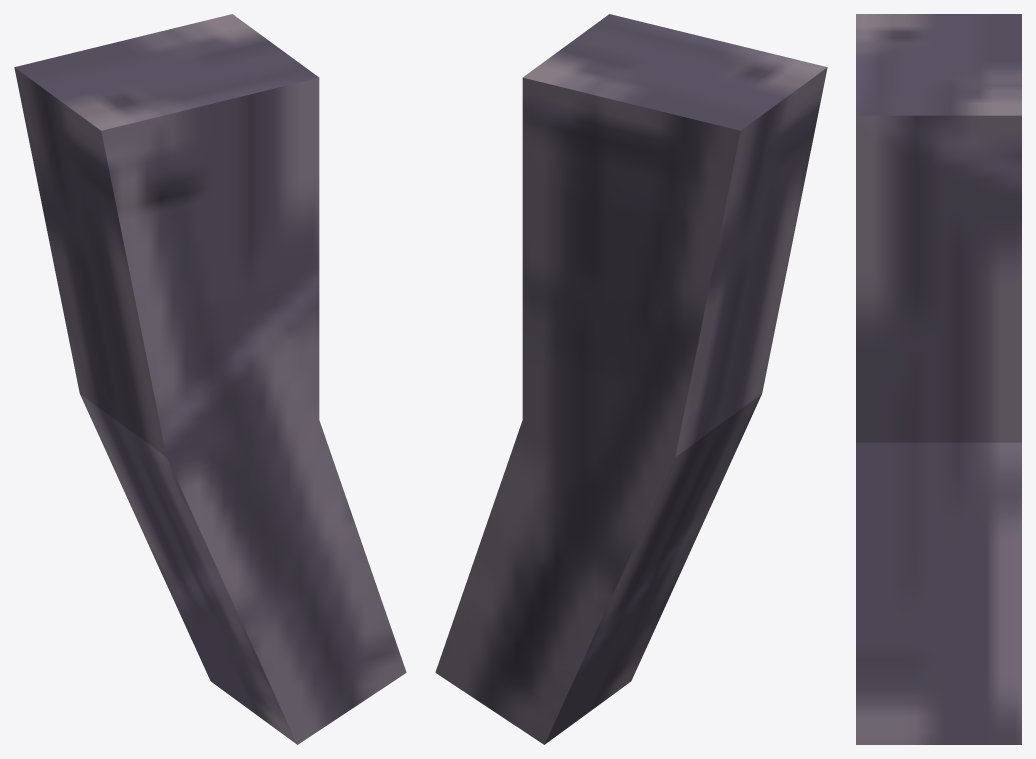
The model's file is pistol_trigger.fbx.
The picture shows the model from 3 angles, left to right: view 1: azimuth 30°, elevation 25°; view 2: azimuth 150°, elevation 25°; view 3: azimuth 270°, elevation 25°; orthographic projection. The views are drawn at different scales.
Visible parts, largest first — view 1: pistol_trigger; view 2: pistol_trigger; view 3: pistol_trigger.
Boxes of the visible parts, <box> form: pistol_trigger: <box>14,14,406,744</box>; pistol_trigger: <box>435,14,827,744</box>; pistol_trigger: <box>856,14,1021,744</box>.
Bounding box in the file's own units: 0.0525 × 0.1088 × 0.0259.
